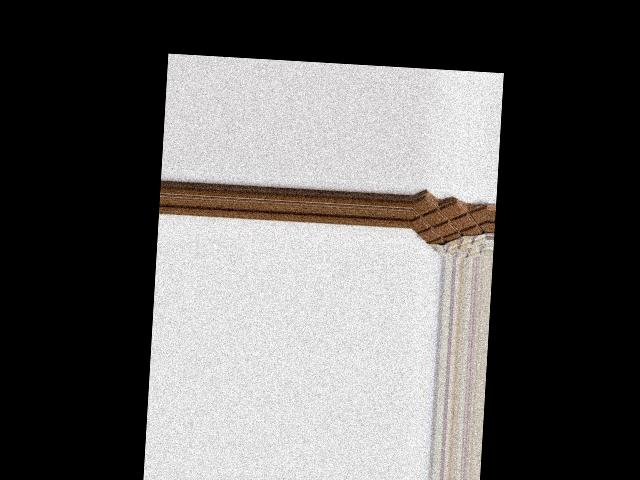chocolate: (411, 194, 489, 258)
